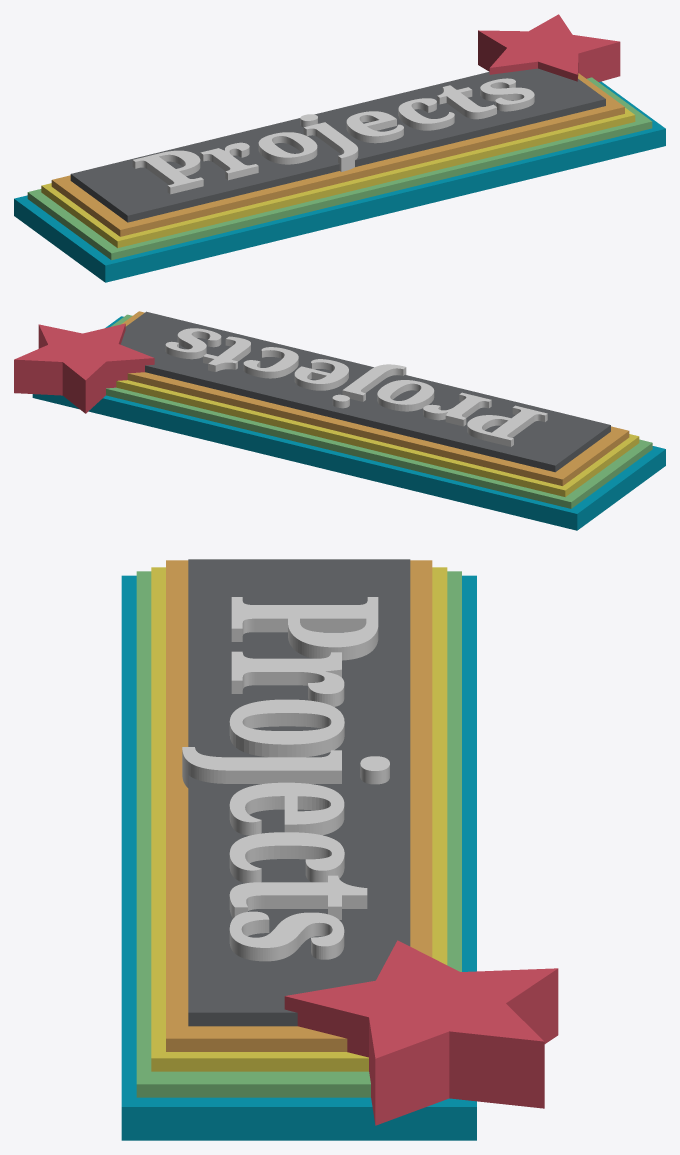
Rendered from txtProjectes.glb.
3 views of the same model, one above another, from view 1: azimuth 30°, elevation 25°; view 2: azimuth 150°, elevation 25°; view 3: azimuth 270°, elevation 25° (orthographic). The views are drawn at different scales.
Parts seen in each view (by area): view 1: Mesh_Mesh_head_geo.001_lambert2SG.001; view 2: Mesh_Mesh_head_geo.001_lambert2SG.001; view 3: Mesh_Mesh_head_geo.001_lambert2SG.001.
Boxes of the visible parts, left/top/right/bottom form: Mesh_Mesh_head_geo.001_lambert2SG.001: left=14, top=14, right=665, bottom=282; Mesh_Mesh_head_geo.001_lambert2SG.001: left=14, top=311, right=665, bottom=530; Mesh_Mesh_head_geo.001_lambert2SG.001: left=121, top=559, right=558, bottom=1140.
Size of the model in its own units: 176 by 15 by 59.
